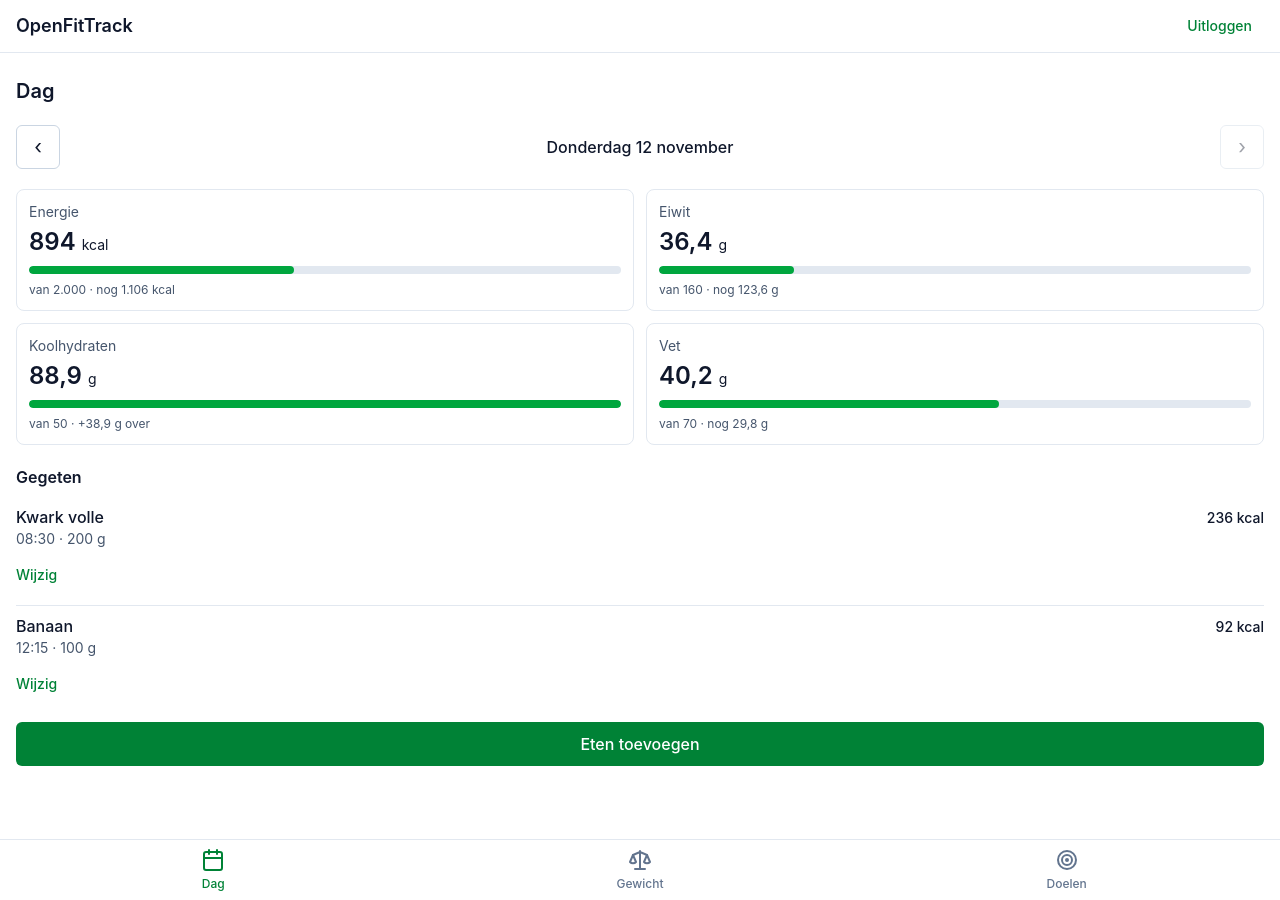
Test: correcting a logged line › does not allow an empty or zero amount
Click the button with aria-label "Wijzig Kwark volle" at (37, 575), box [16,553,57,597]
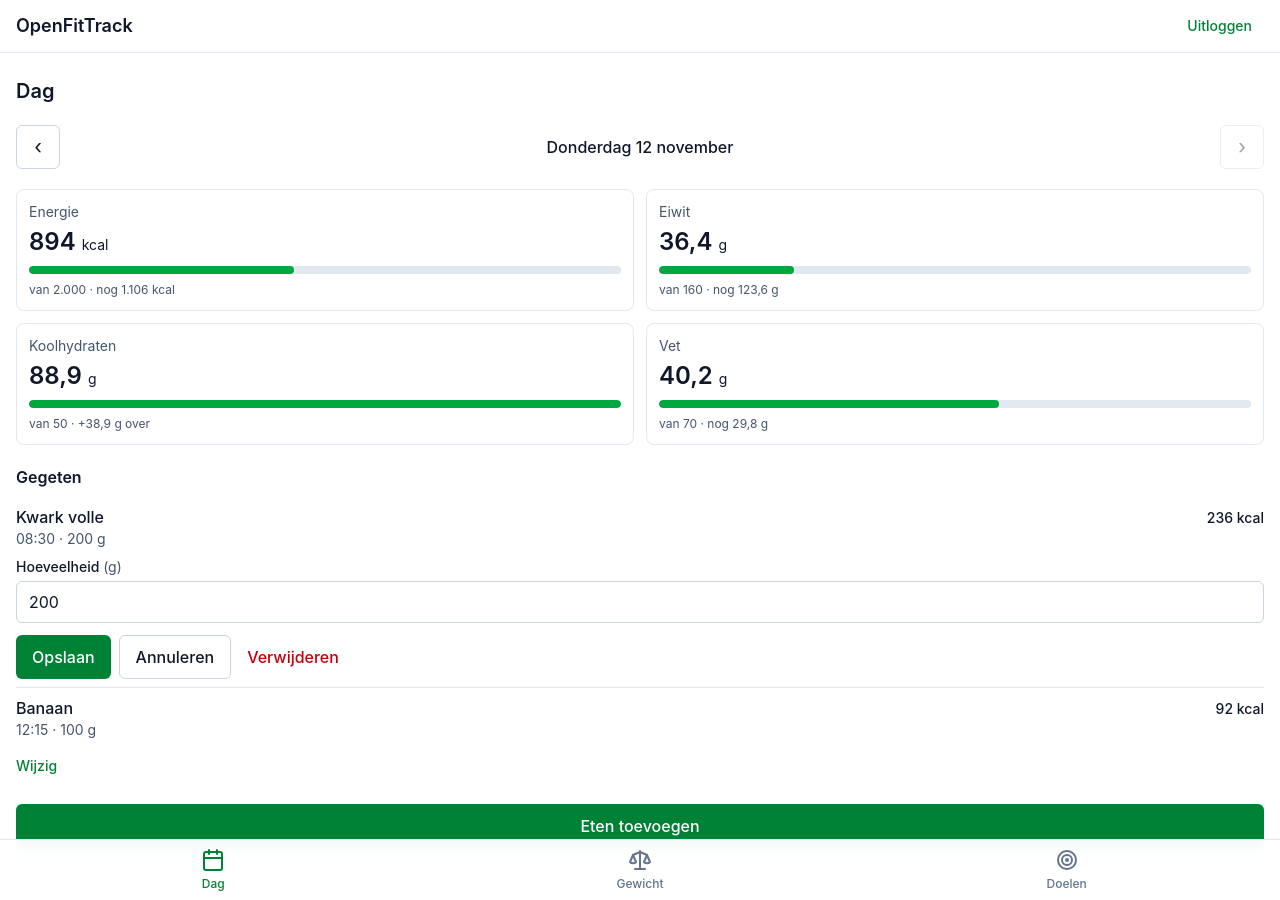
Clear the field labelled "Hoeveelheid (g)" at (640, 602), box [16,581,1264,623]
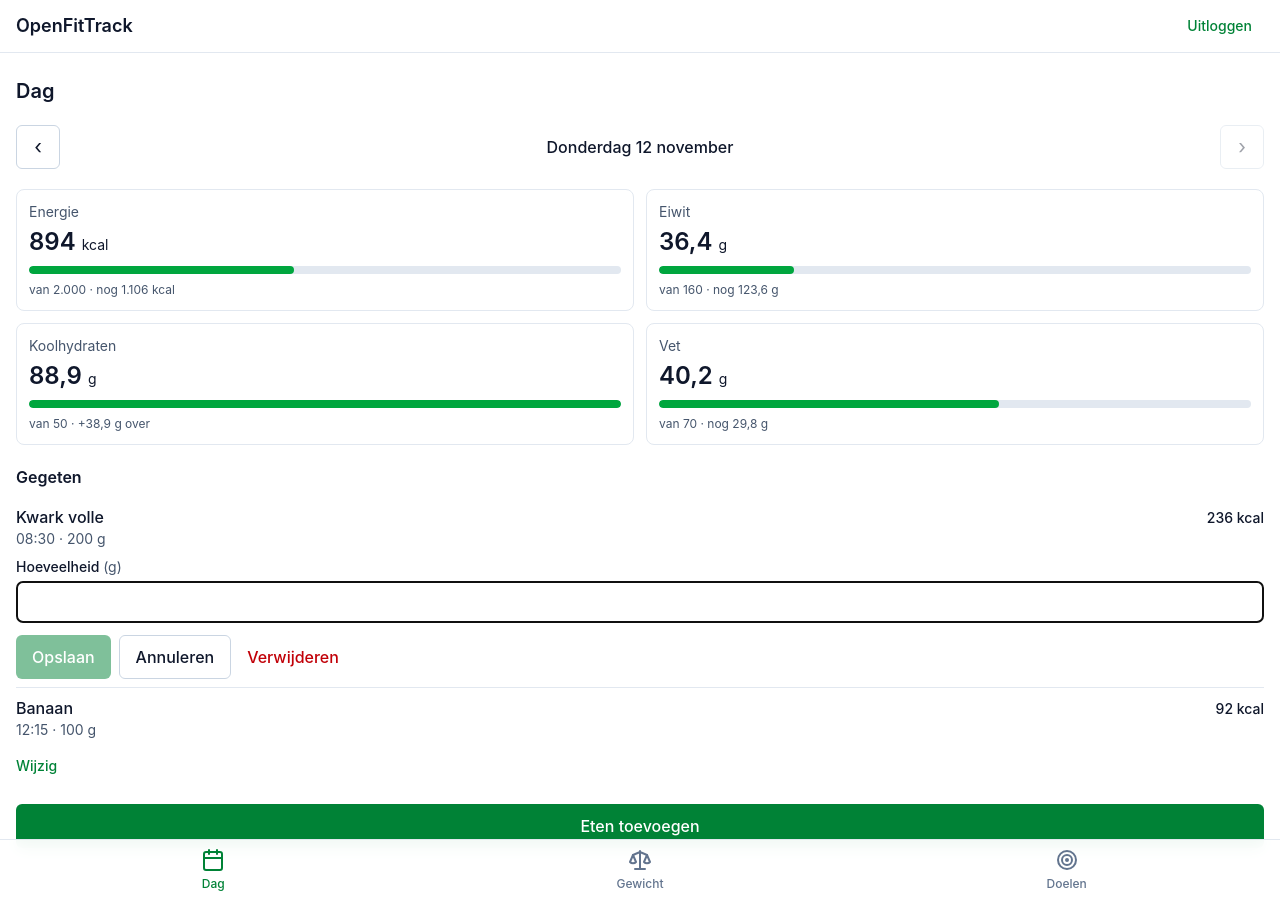
Check: the button "Opslaan" is disabled, box [16,635,111,679]
